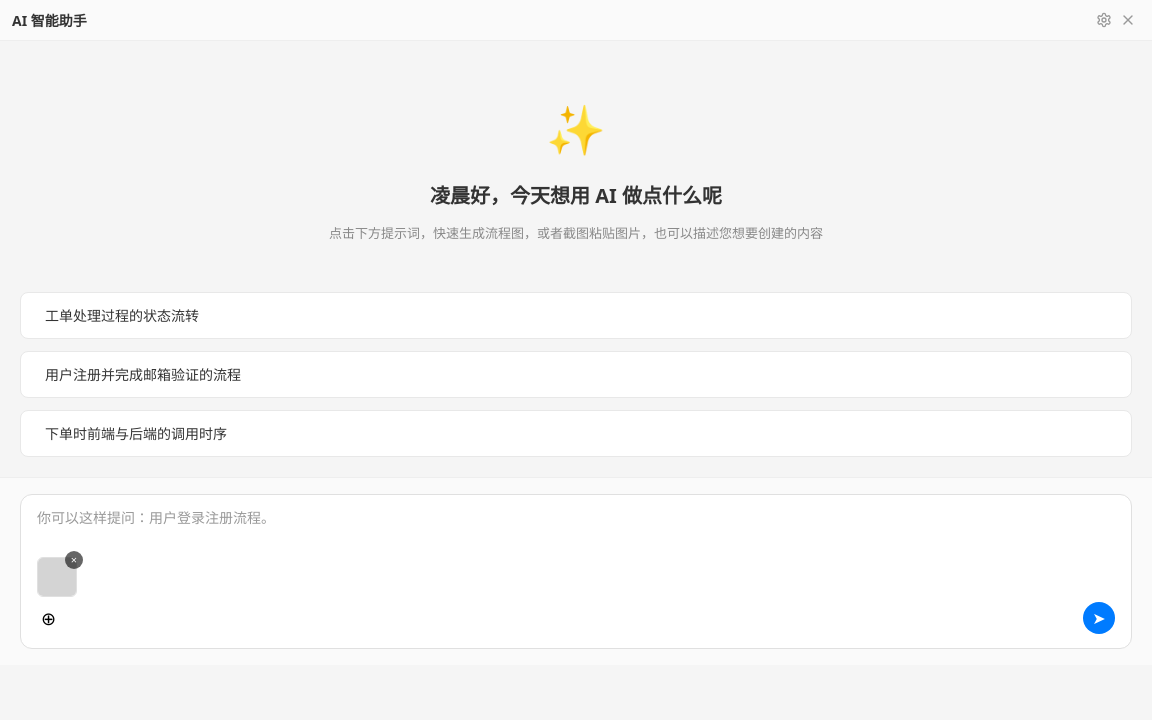
AIChatPanel 落图归位（居中 + 扩页） › 元素落图后整体居中到页面中心
Click the button named "发送". click: (1099,618)
box: x1=1083 y1=602 x2=1115 y2=634
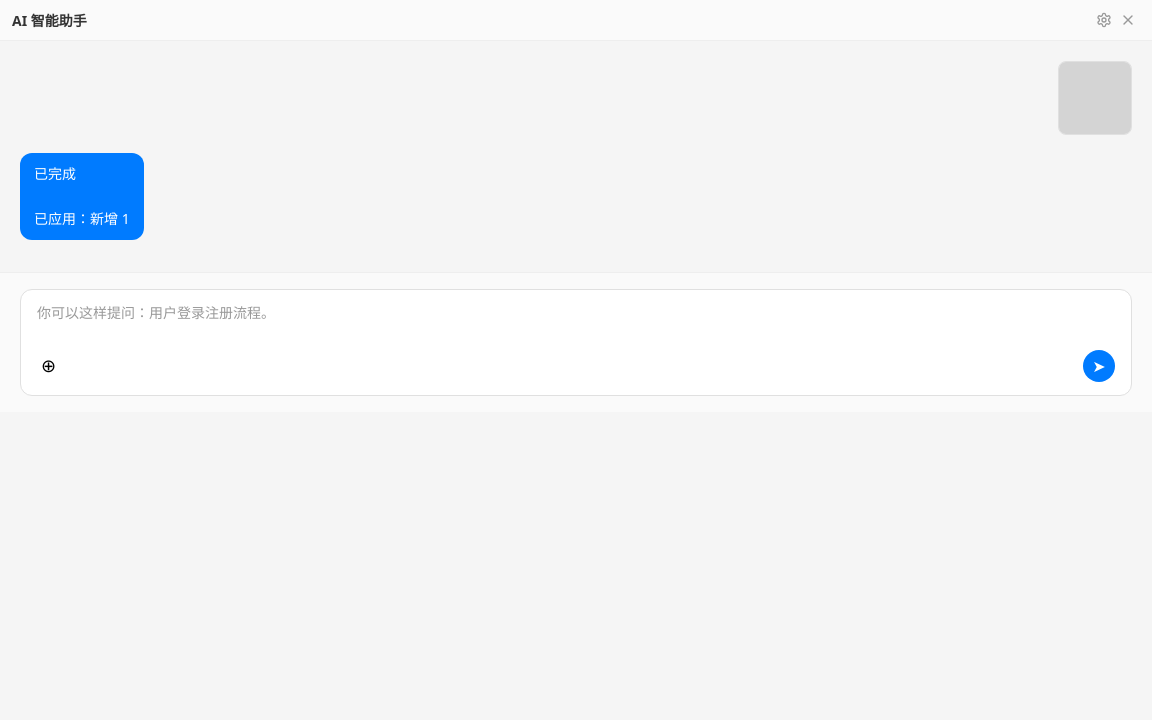
Expected: the text "已完成 已应用：新增 1" is shown, x1=20 y1=153 x2=144 y2=240
